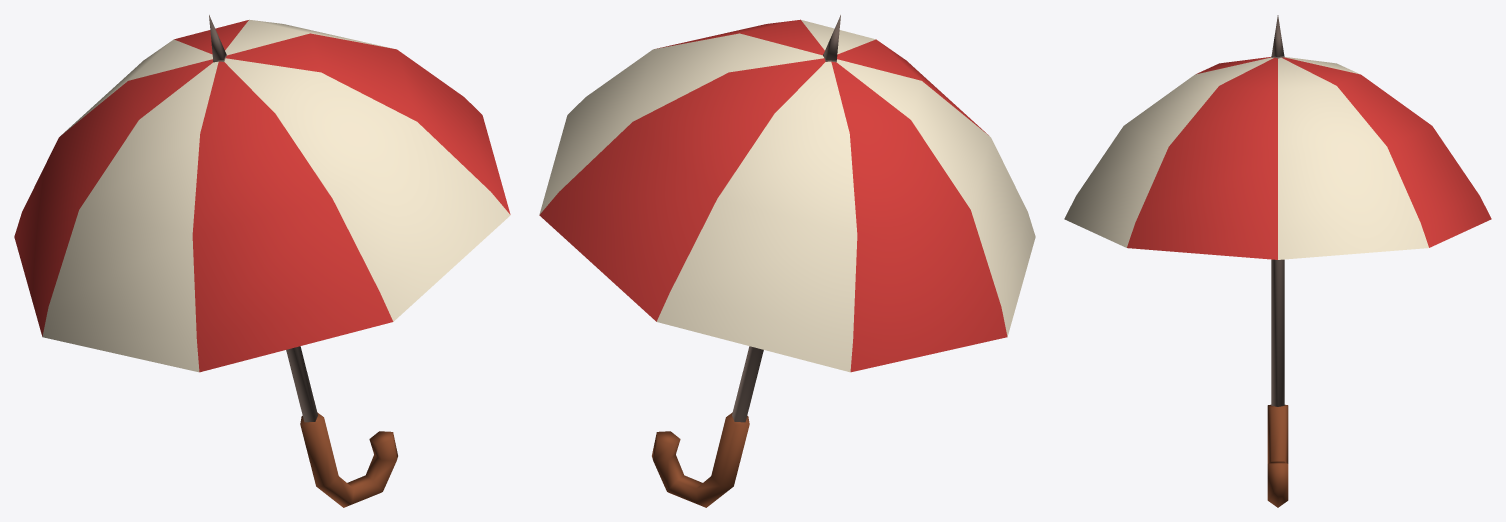
File: life-umbrella.glb
3 views of the same model, side by side, from view 1: azimuth 30°, elevation 25°; view 2: azimuth 150°, elevation 25°; view 3: azimuth 270°, elevation 25° (orthographic). The views are drawn at different scales.
Visible parts, largest first — view 1: life.umbrella; view 2: life.umbrella; view 3: life.umbrella.
Part boxes in pixels (x1,y1,x2,y2): life.umbrella: (14, 15, 510, 507); life.umbrella: (539, 15, 1035, 507); life.umbrella: (1064, 15, 1491, 507).
Bounding box in the file's own units: 1.61 × 1.84 × 1.66.
Materials: 5 (5 with a texture image).
